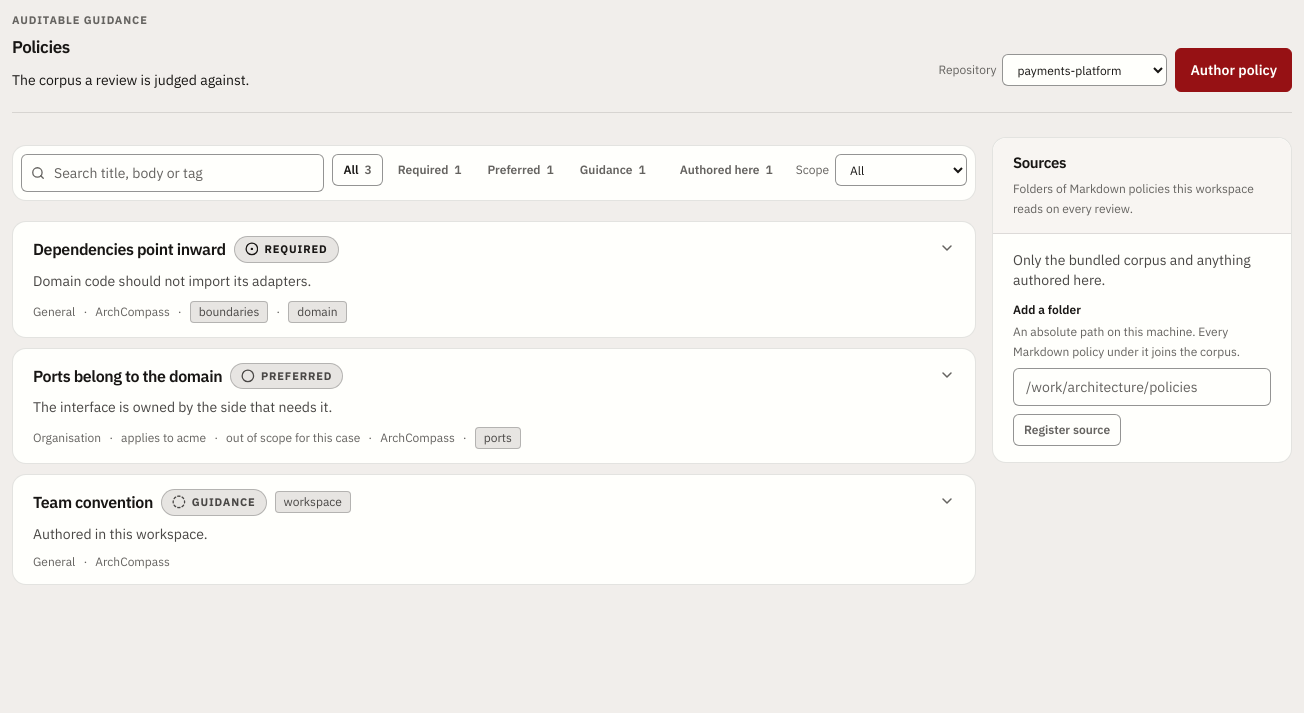
Scenario: the policy corpus › renders the policy body as Markdown, not as raw text
Click the button "Dependencies point inward Required": [129, 249] box x1=33 y1=236 x2=955 y2=262
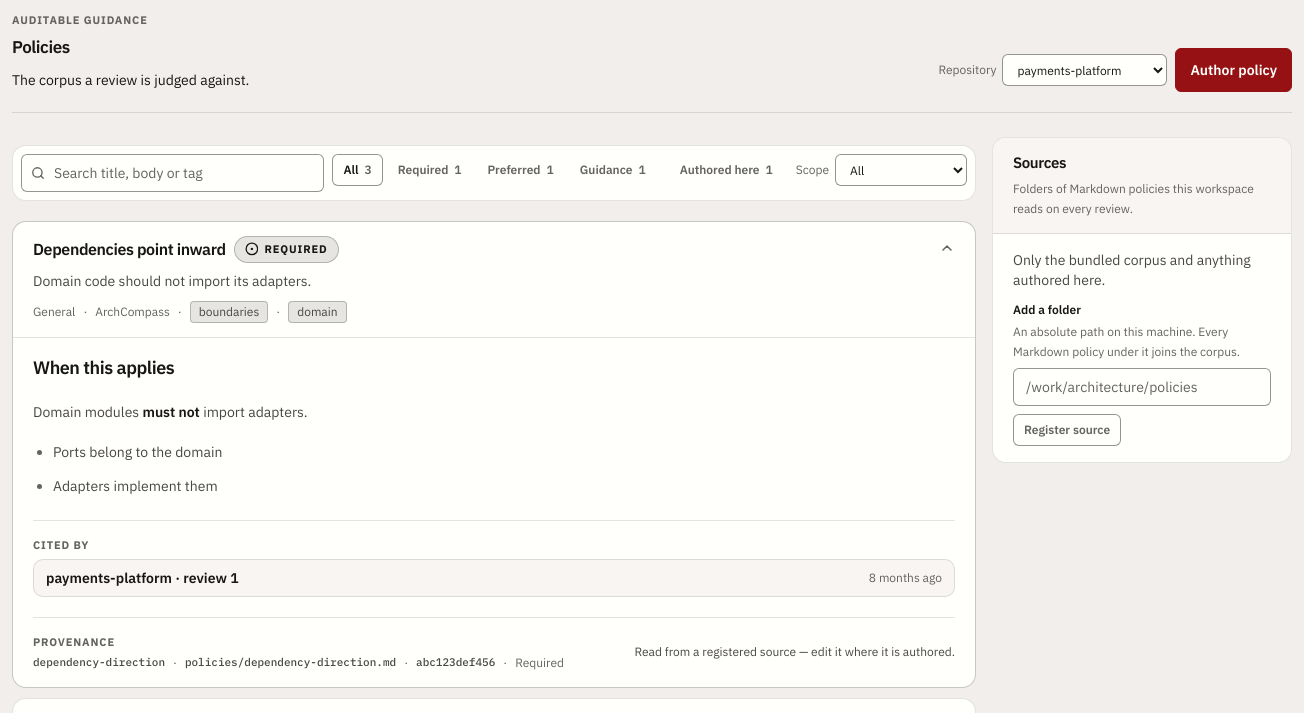
Expected: the list item "Ports belong to the domain" is shown, x1=53 y1=442 x2=222 y2=460
Result: the heading "When this applies" is shown at x1=33 y1=356 x2=174 y2=378
